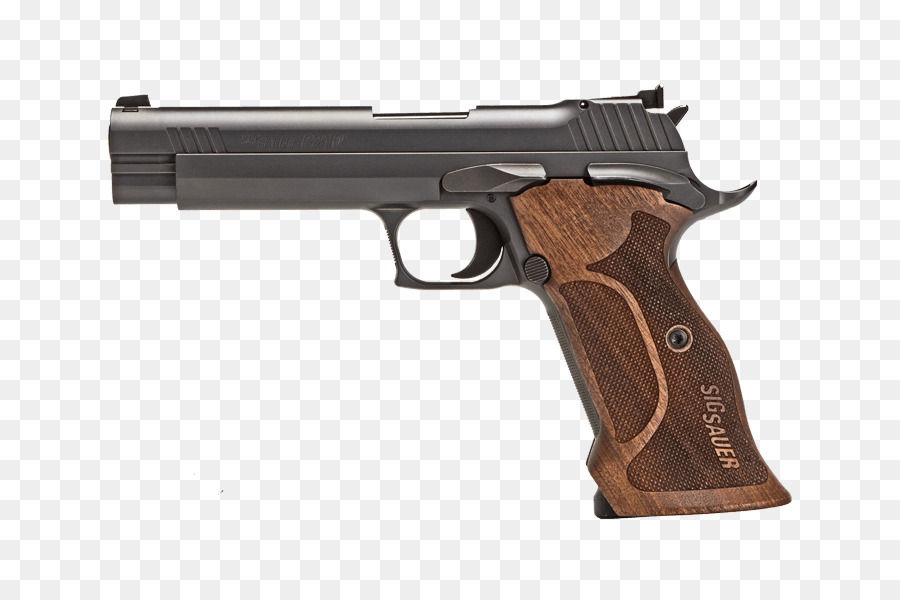pistol: (81, 44, 828, 554)
